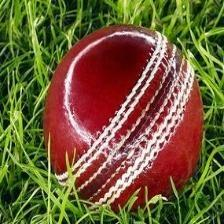Sports-Ball: (44, 21, 204, 211)
